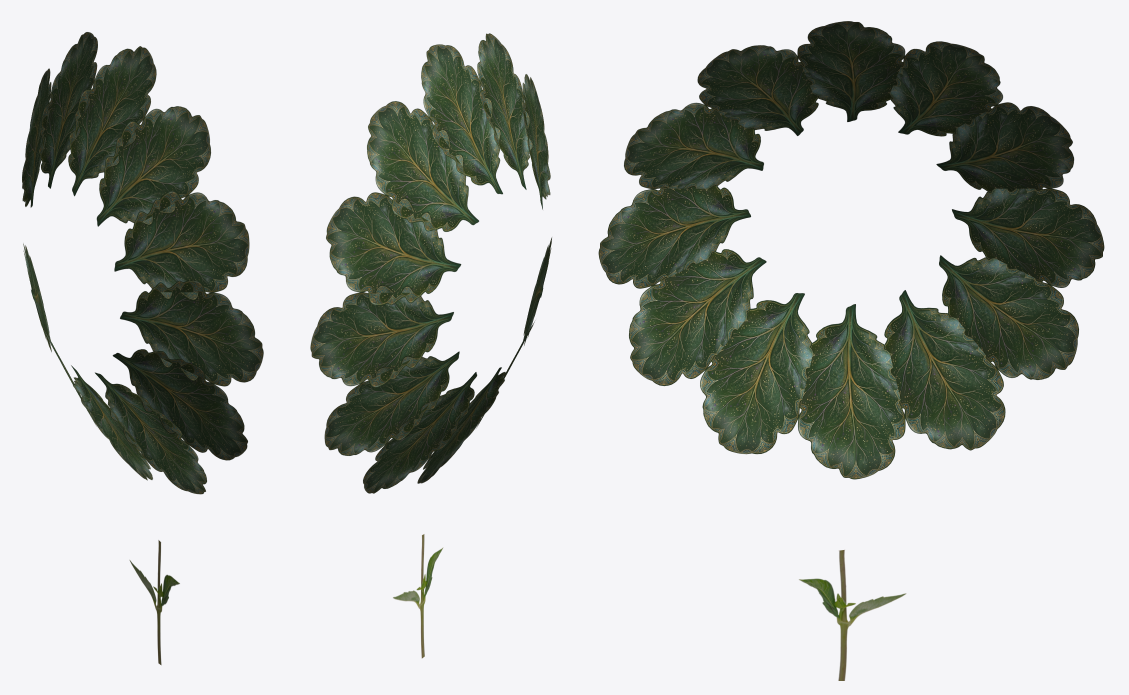
File: provaDef.gltf
3 views of the same model, side by side, from view 1: azimuth 30°, elevation 25°; view 2: azimuth 150°, elevation 25°; view 3: azimuth 270°, elevation 25° (orthographic). The views are drawn at different scales.
Parts seen in each view (by area): view 1: foglia.010, foglia.009, foglia.011, foglia.008, foglia.012, foglia.007, foglia.013, foglia.006, foglia.002, solo_gambo, foglia.004; view 2: foglia.002, foglia.003, foglia.013, foglia.004, foglia.012, foglia.005, foglia.011, foglia.006, foglia.010, solo_gambo, foglia.008; view 3: foglia.006, foglia.005, foglia.007, foglia.004, foglia.008, foglia.003, foglia.009, foglia.002, foglia.010, foglia.013, foglia.011, foglia.012 (+1 smaller).
Part boxes in pixels (box(x1,y1,x2,y2)): foglia.010: box(114, 191, 249, 300); foglia.009: box(120, 280, 263, 386); foglia.011: box(96, 106, 210, 226); foglia.008: box(112, 349, 247, 460); foglia.012: box(68, 46, 156, 196); foglia.007: box(95, 372, 206, 494); foglia.013: box(38, 32, 97, 188); foglia.006: box(71, 365, 152, 480); foglia.002: box(22, 68, 51, 207); solo_gambo: box(129, 540, 179, 664); foglia.004: box(23, 243, 51, 351); foglia.002: box(326, 192, 461, 305); foglia.003: box(310, 285, 453, 387); foglia.013: box(367, 101, 478, 231); foglia.004: box(324, 351, 459, 455); foglia.012: box(421, 44, 502, 194); foglia.005: box(363, 372, 477, 493); foglia.011: box(477, 33, 532, 189); foglia.006: box(417, 367, 505, 483); foglia.010: box(522, 74, 550, 209); solo_gambo: box(393, 534, 443, 658); foglia.008: box(523, 237, 551, 345); foglia.006: box(798, 304, 905, 479); foglia.005: box(884, 290, 1005, 450); foglia.007: box(700, 293, 813, 454); foglia.004: box(939, 255, 1078, 379); foglia.008: box(629, 249, 766, 385); foglia.003: box(952, 188, 1104, 287); foglia.009: box(598, 185, 750, 288); foglia.002: box(936, 102, 1074, 192); foglia.010: box(624, 102, 763, 188); foglia.013: box(889, 41, 1002, 136); foglia.011: box(697, 45, 818, 135); foglia.012: box(797, 21, 905, 121).
Size of what is drawn, in the model's own units: 1.08 by 7.59 by 5.45.
2 materials, 2 textured.
